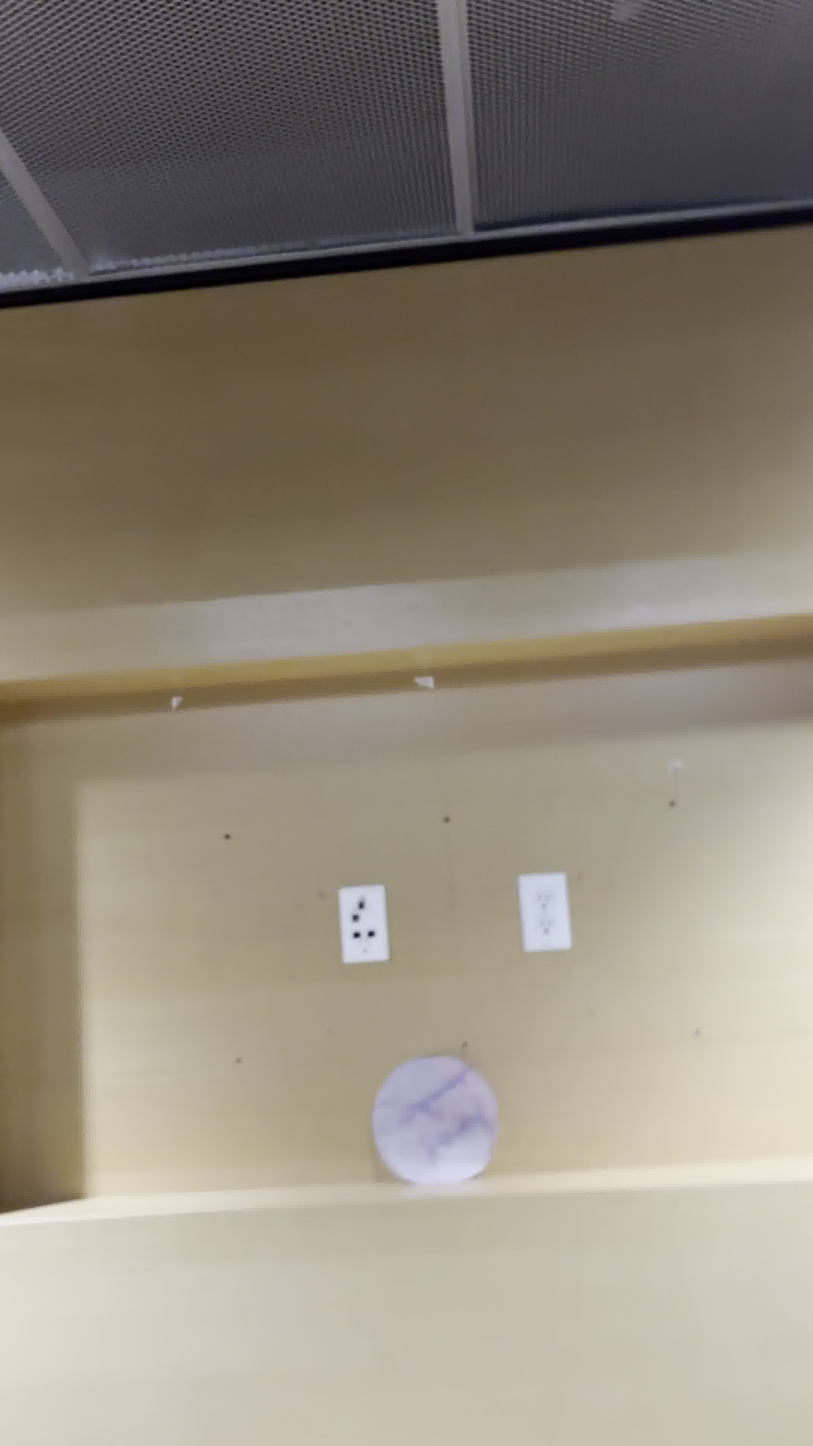Target: (358, 1054, 501, 1188)
